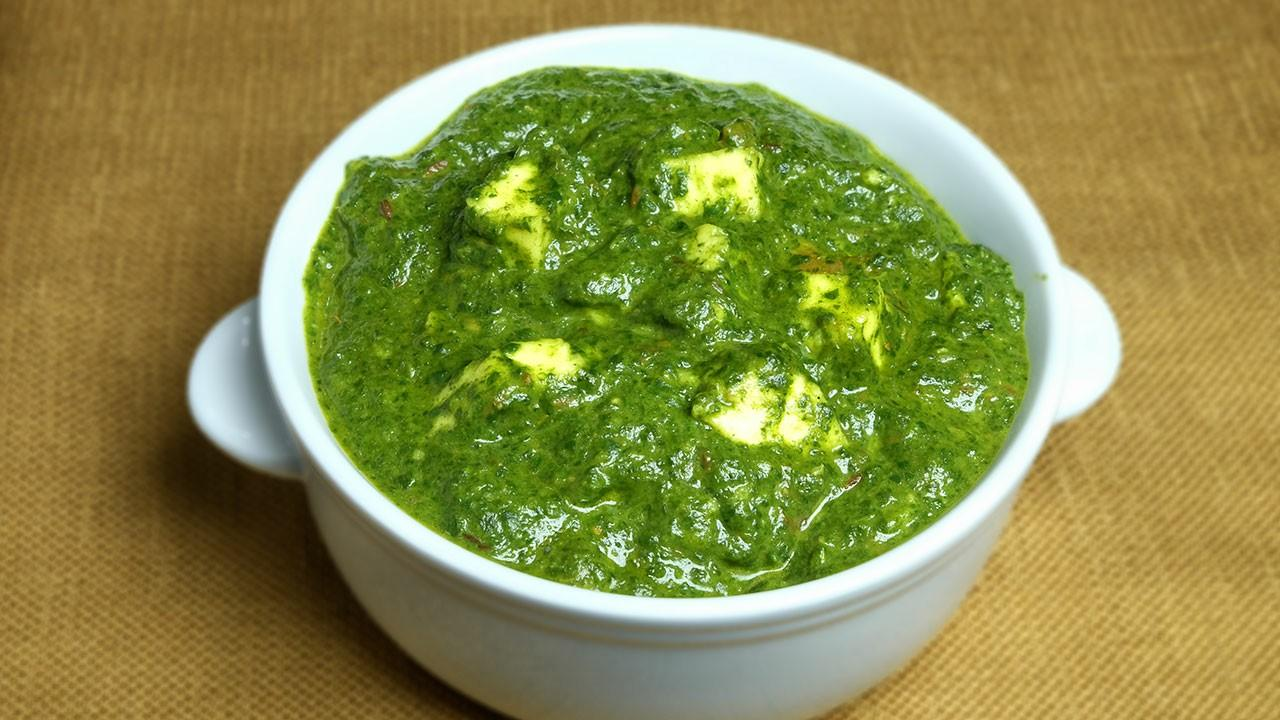PalakPaneer: (318, 59, 1024, 591)
